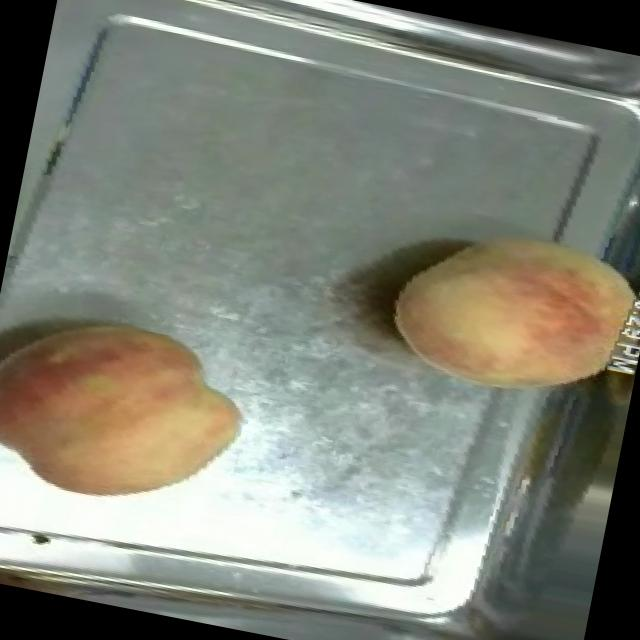Fruit: (366, 185, 640, 430), (0, 282, 264, 529)
